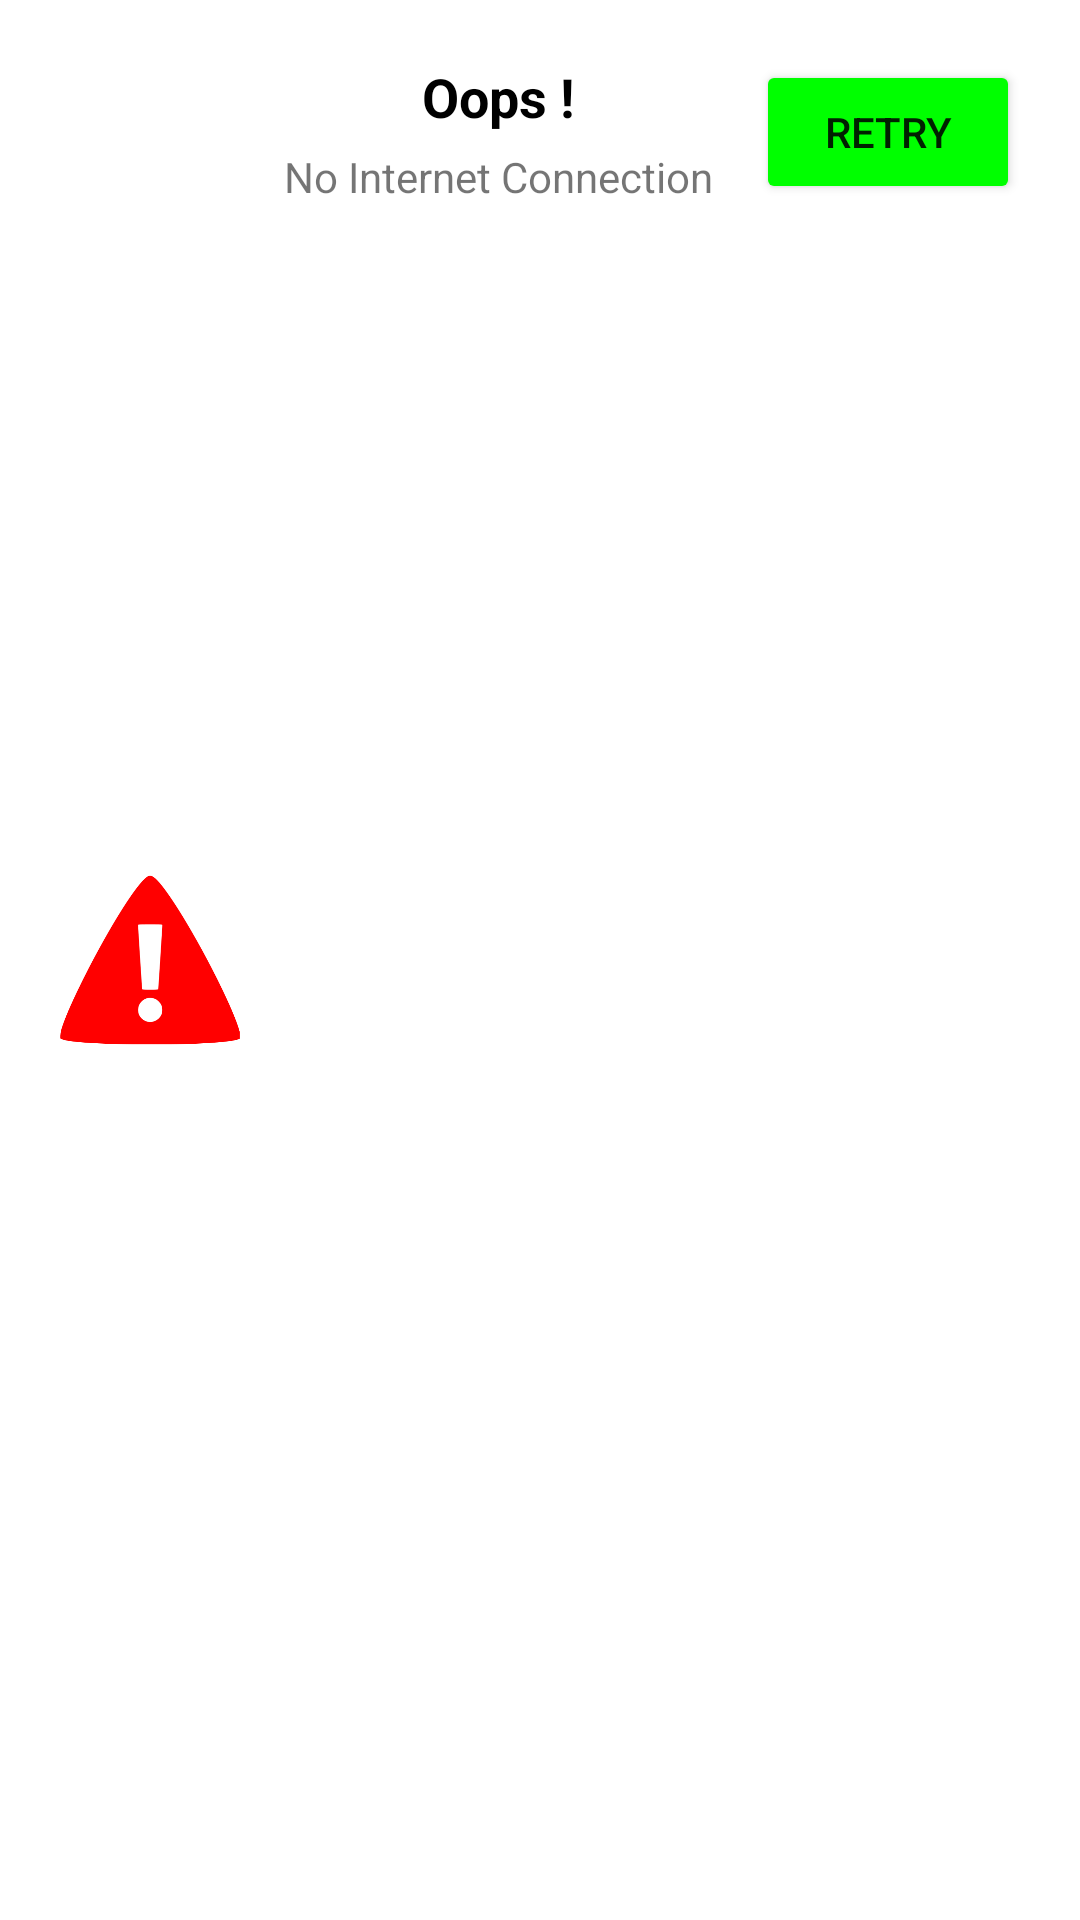

Named icons in this screenshot (1080 x 1920) and their centers, [x,y]:
alert: [150,960]
